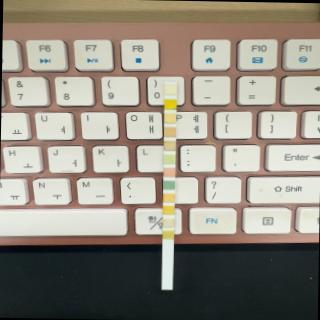mark: (163, 140, 176, 150), (164, 98, 177, 108), (164, 84, 176, 94), (162, 193, 175, 202), (162, 180, 175, 189), (163, 167, 176, 176), (163, 113, 176, 122), (162, 204, 174, 213), (164, 127, 175, 136), (162, 218, 174, 226), (163, 154, 175, 162), (162, 230, 173, 238)
